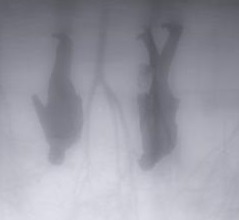person: (135, 23, 184, 171), (31, 32, 84, 166)
